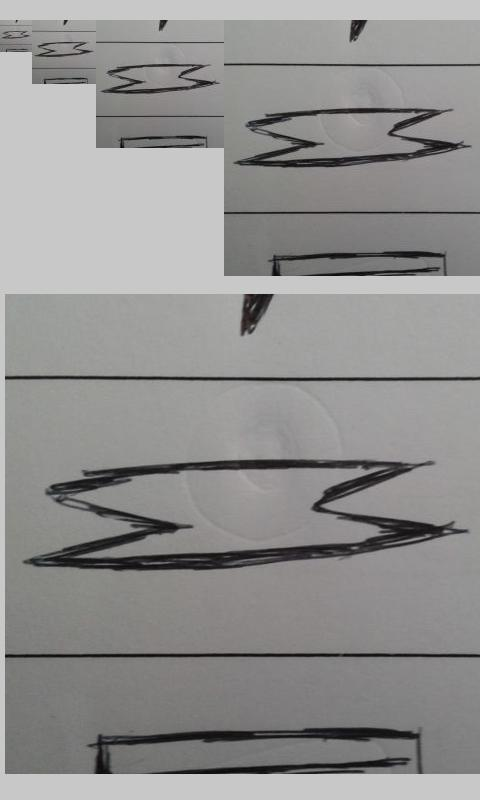edit_text: (29, 458, 454, 576), (239, 106, 458, 169), (101, 63, 215, 95), (35, 41, 92, 57), (2, 31, 29, 39)
